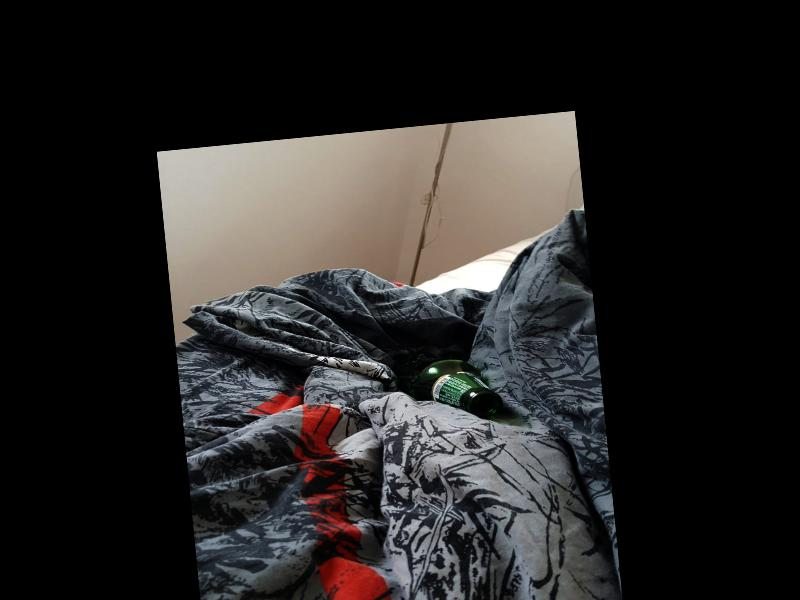Beer: (389, 345, 504, 427)
